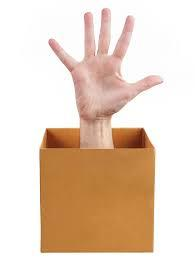Fingers-Spread: (48, 8, 166, 134)
